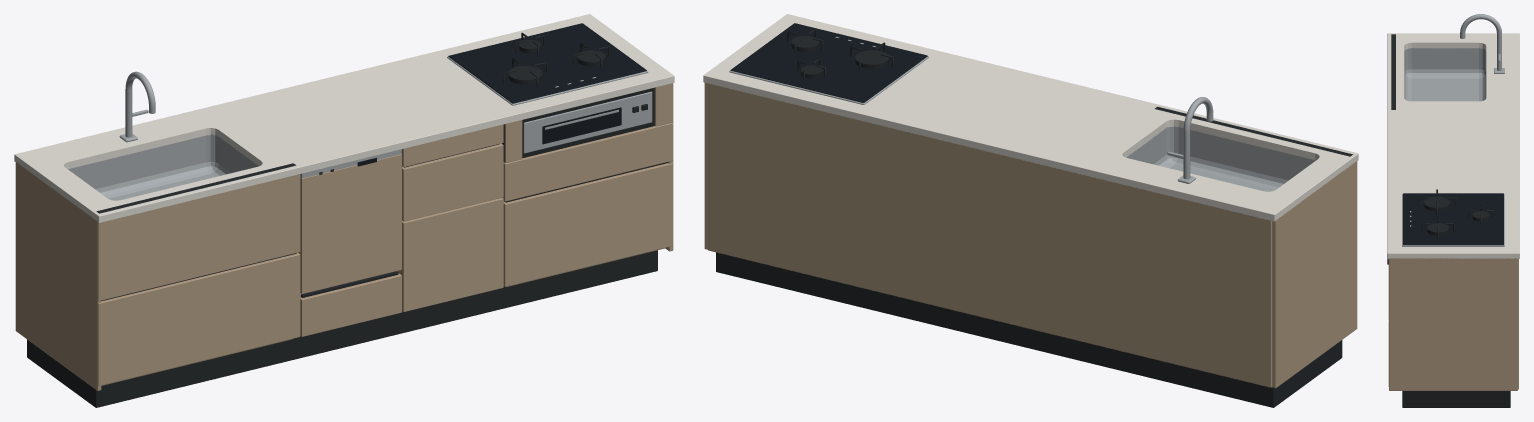
File: original-kitchen-gas2550.glb
3 views of the same model, side by side, from view 1: azimuth 30°, elevation 25°; view 2: azimuth 150°, elevation 25°; view 3: azimuth 270°, elevation 25° (orthographic). The views are drawn at different scales.
Parts seen in each view (by area): view 1: original-kitchen-gas2550; view 2: original-kitchen-gas2550; view 3: original-kitchen-gas2550.
Part boxes in pixels (left/top/right/bottom): original-kitchen-gas2550: left=14, top=14, right=674, bottom=407; original-kitchen-gas2550: left=703, top=14, right=1358, bottom=407; original-kitchen-gas2550: left=1387, top=14, right=1519, bottom=407.
Size of the model in its own units: 2.55 by 1.16 by 0.65.
